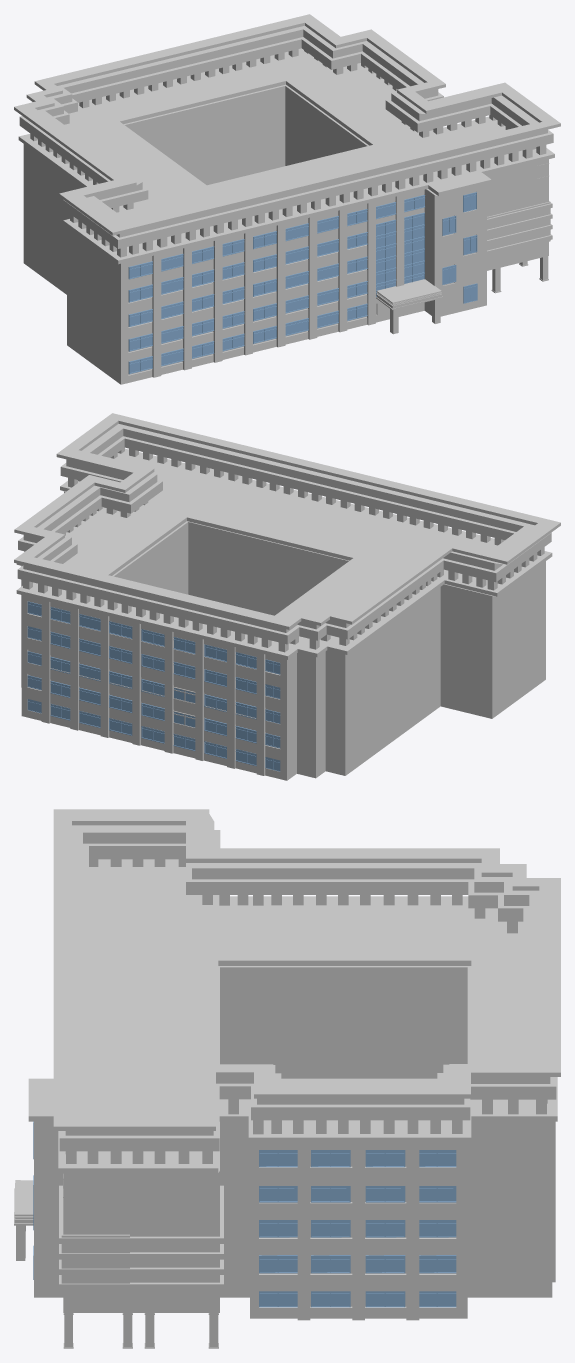
The model's file is bogun.fbx.
The picture shows the model from 3 angles, top to bottom: view 1: azimuth 30°, elevation 25°; view 2: azimuth 150°, elevation 25°; view 3: azimuth 270°, elevation 25°; orthographic projection. The views are drawn at different scales.
Visible parts, largest first — view 1: all, Cube.011, 창, Cube.008, Cube.100, Cube.022, Cube.016, 다리; view 2: all, Cube.011, 창2, Cube.007, Cube.100; view 3: all, Cube.011, 창1, Cube.100, Cube.022, 다리, Cube.016.
Boxes of the visible parts, box(x1,y1,x2,y2) form: all: box(18, 48, 554, 384); Cube.011: box(14, 14, 560, 248); 창: box(128, 192, 477, 374); Cube.008: box(152, 194, 404, 377); Cube.100: box(30, 49, 546, 257); Cube.022: box(487, 203, 552, 255); Cube.016: box(376, 279, 442, 309); 다리: box(491, 256, 548, 293); all: box(16, 448, 552, 780); Cube.011: box(14, 413, 560, 644); 창2: box(27, 601, 280, 771); Cube.007: box(41, 600, 265, 775); Cube.100: box(23, 447, 544, 652); all: box(28, 859, 557, 1320); Cube.011: box(53, 809, 560, 1151); 창1: box(259, 1150, 456, 1307); Cube.100: box(65, 859, 547, 1163); Cube.022: box(59, 1185, 223, 1289); 다리: box(63, 1313, 218, 1348); Cube.016: box(14, 1180, 33, 1225).
Size of the model in its own units: 23038 by 7747 by 16777.
